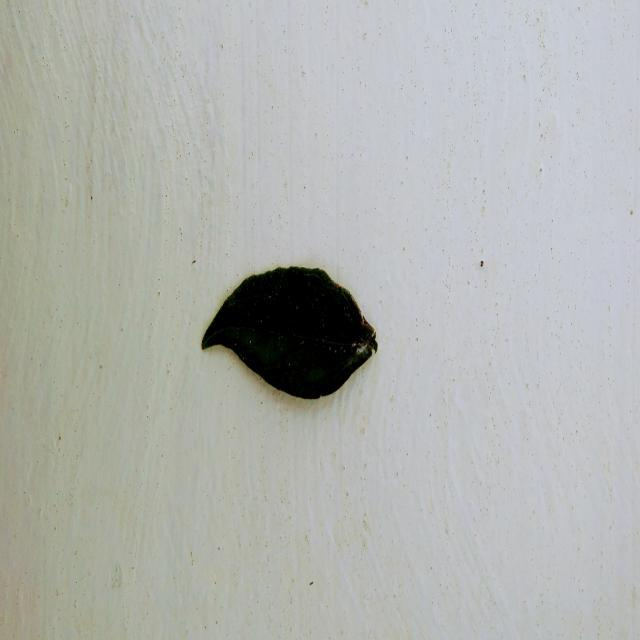leaf: (200, 264, 378, 400)
